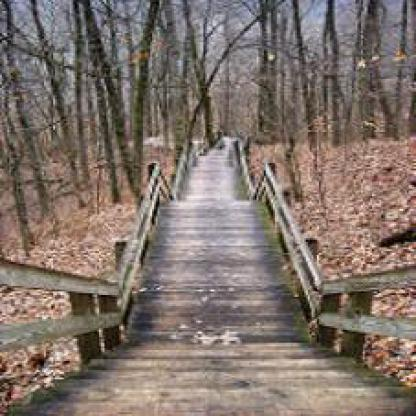stair_down: (95, 320, 372, 414)
